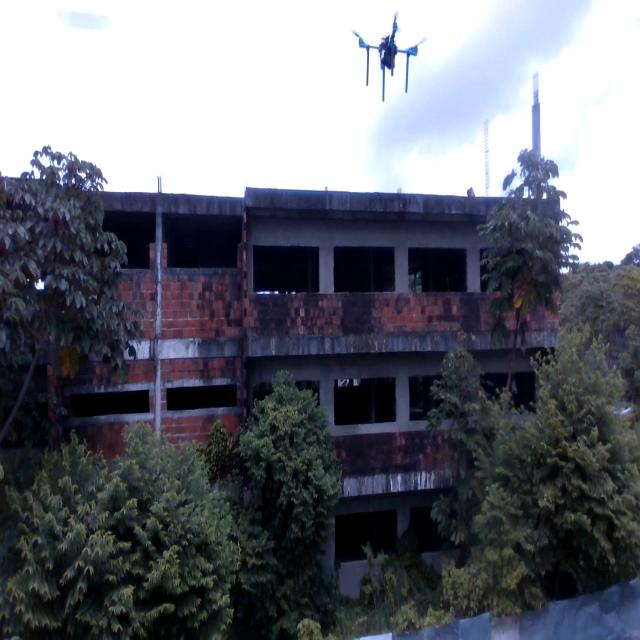-uav-: (344, 10, 434, 107)
